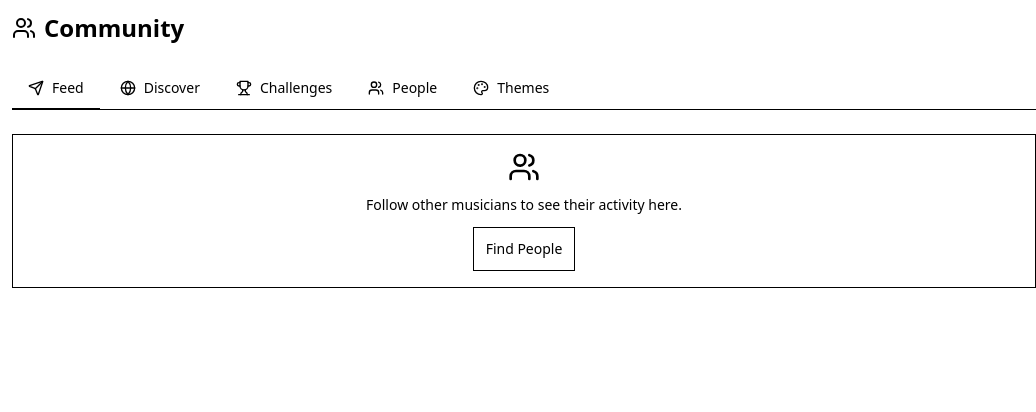
Test: CommunityPage › switches to people tab and shows search
Step 1. Click the button "People" → (403, 89), box [352,68,453,110]
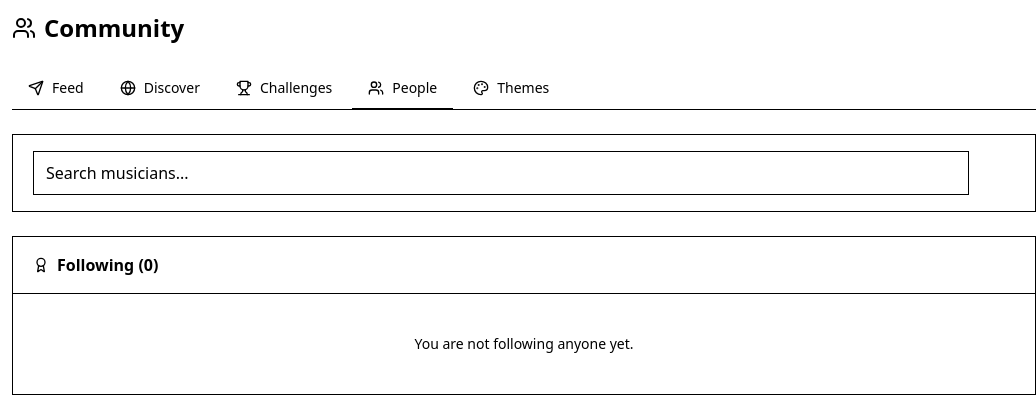
Expected: the field with placeholder "Search musicians..." is shown, [33,151,969,195]
